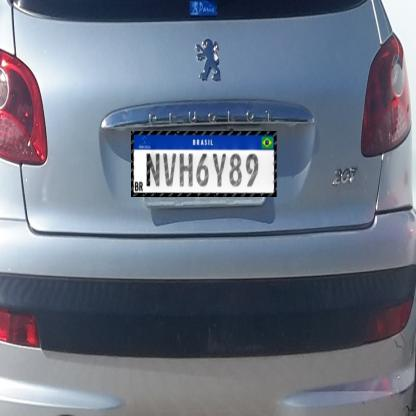PlacaM: (131, 131, 277, 197)
